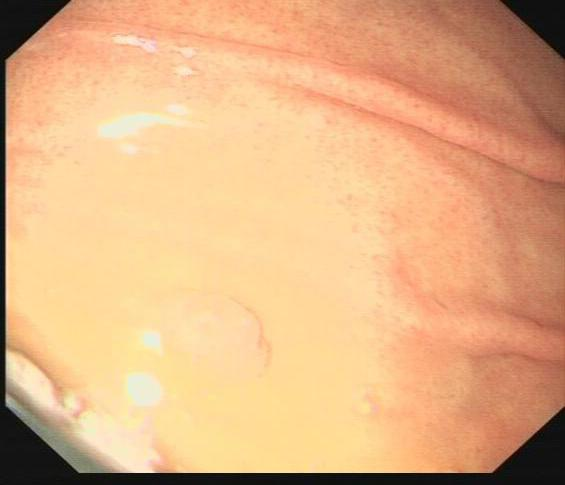Polyp: (159, 290, 272, 382)
